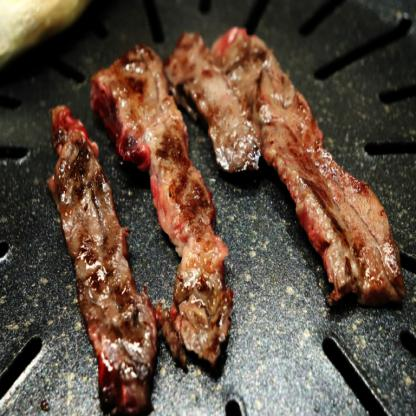Carne: (159, 27, 402, 307), (85, 41, 238, 374), (51, 112, 160, 416)
